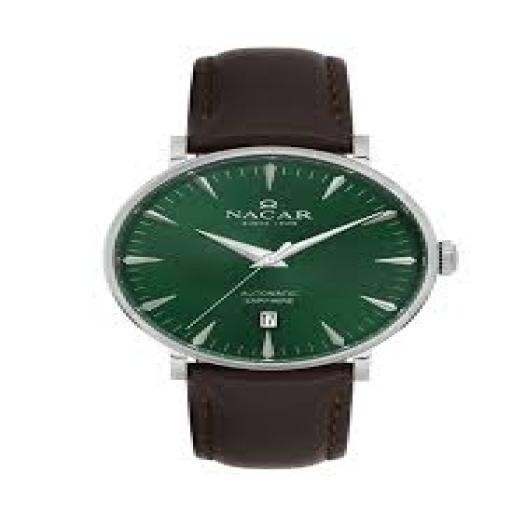KolSaati: (58, 42, 473, 488)
